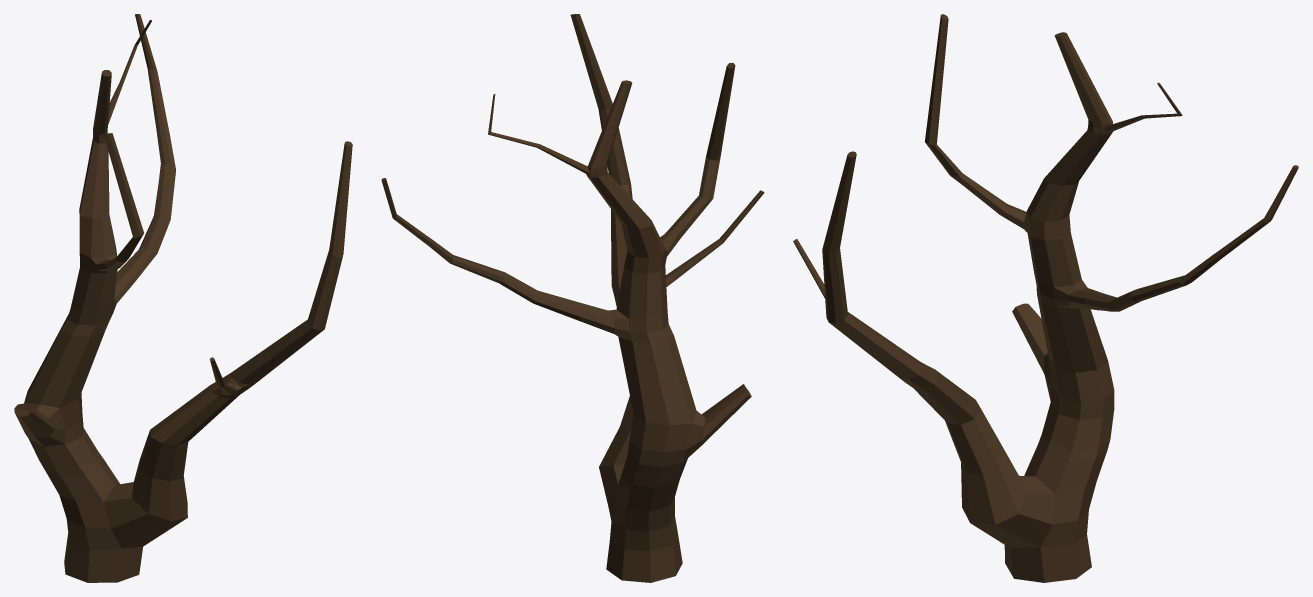
File: DeadTree3.gltf
The picture shows the model from 3 angles, left to right: view 1: azimuth 30°, elevation 25°; view 2: azimuth 150°, elevation 25°; view 3: azimuth 270°, elevation 25°; orthographic projection. The views are drawn at different scales.
Parts seen in each view (by area): view 1: DeadTree3; view 2: DeadTree3; view 3: DeadTree3.
Boxes of the visible parts, x1,y1,x2,y2 form: DeadTree3: (14, 14, 352, 582); DeadTree3: (381, 14, 764, 582); DeadTree3: (793, 14, 1298, 582).
Size of the model in its own units: 1.47 by 2.66 by 2.26.
